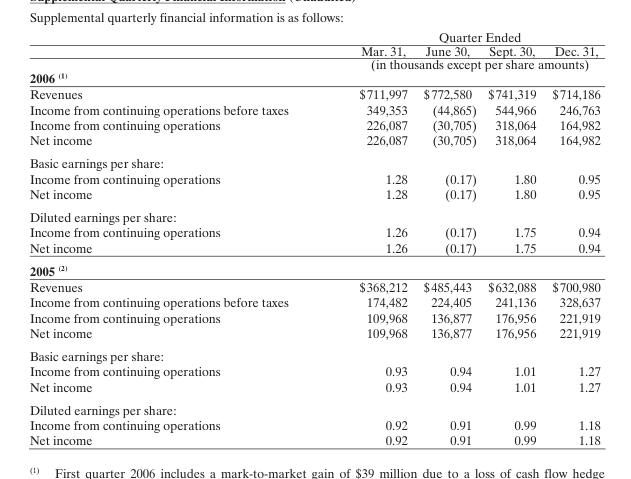table: (28, 29, 599, 447)
table column: (28, 29, 323, 447), (323, 29, 414, 447), (414, 29, 481, 447), (481, 29, 543, 447), (543, 29, 599, 447)
table column header: (28, 29, 599, 70)
table projected row header: (28, 258, 599, 278), (28, 151, 599, 170), (28, 205, 599, 224), (28, 344, 599, 363), (28, 397, 599, 416), (28, 70, 599, 85)
table row: (28, 185, 599, 205), (28, 258, 599, 278), (28, 324, 599, 344), (28, 132, 599, 151), (28, 151, 599, 170), (28, 205, 599, 224), (28, 239, 599, 258), (28, 344, 599, 363), (28, 378, 599, 397), (28, 397, 599, 416), (28, 85, 599, 101), (28, 116, 599, 132), (28, 278, 599, 294), (28, 416, 599, 432), (28, 70, 599, 85), (28, 101, 599, 116), (28, 170, 599, 185), (28, 224, 599, 239), (28, 294, 599, 309), (28, 309, 599, 324), (28, 363, 599, 378), (28, 432, 599, 447), (28, 29, 599, 43), (28, 56, 599, 70), (28, 43, 599, 56)
table spanning cell: (323, 29, 599, 43), (323, 56, 599, 70)
